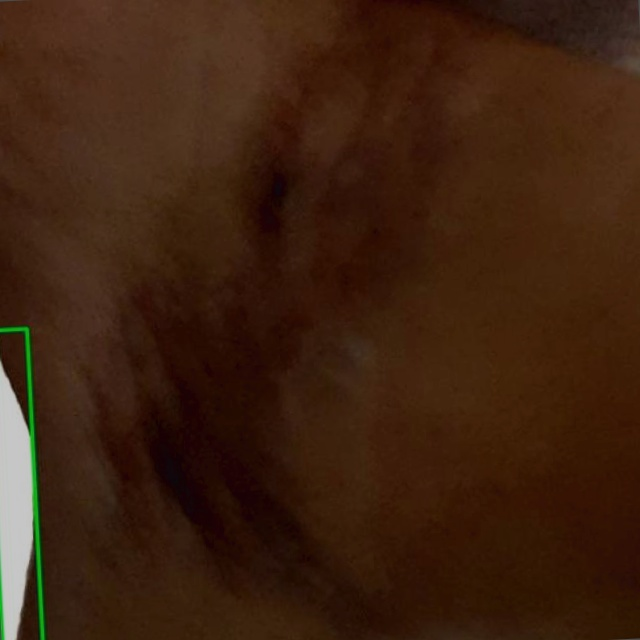Contact Dermatitis: (0, 328, 42, 639)
